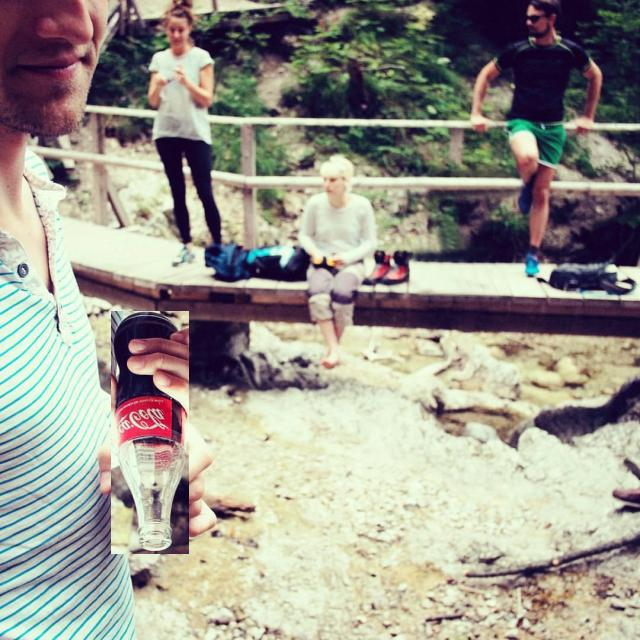coca-cola: (112, 311, 190, 554)
